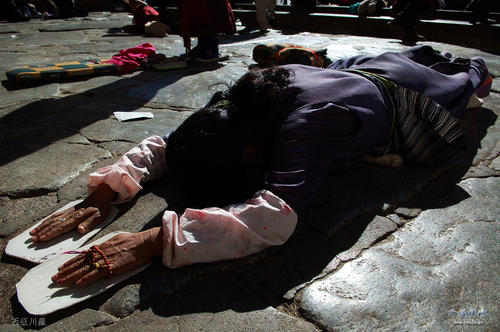fall: (38, 40, 500, 257)
